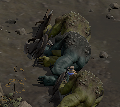{"type":"monster","name":"eldritch","status":"dead","facing":"away"}: (49, 31, 91, 67)
